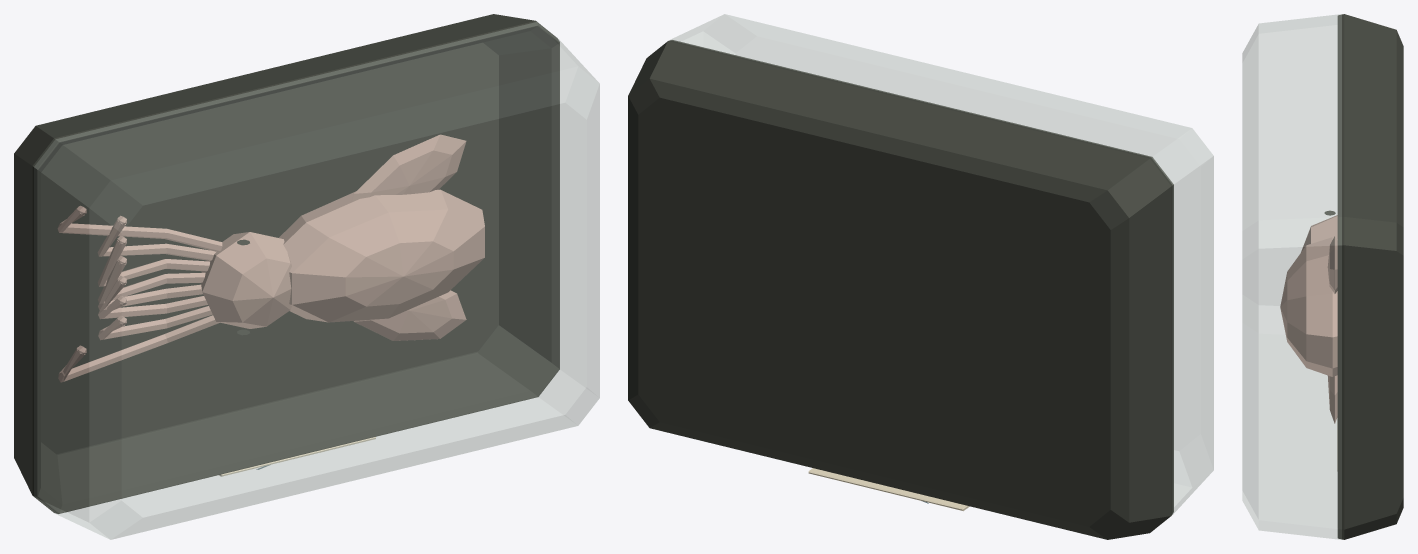
File: squid.glb
3 renders of one model, left to right at view 1: azimuth 30°, elevation 25°; view 2: azimuth 150°, elevation 25°; view 3: azimuth 270°, elevation 25°, orthographic. The views are drawn at different scales.
Parts seen in each view (by area): view 1: squid; view 2: squid; view 3: squid.
Boxes of the visible parts, left/top/right/bottom form: squid: left=14, top=14, right=599, bottom=539; squid: left=628, top=14, right=1213, bottom=539; squid: left=1242, top=14, right=1403, bottom=539.
Size of the model in its own units: 0.22 by 0.152 by 0.068.
